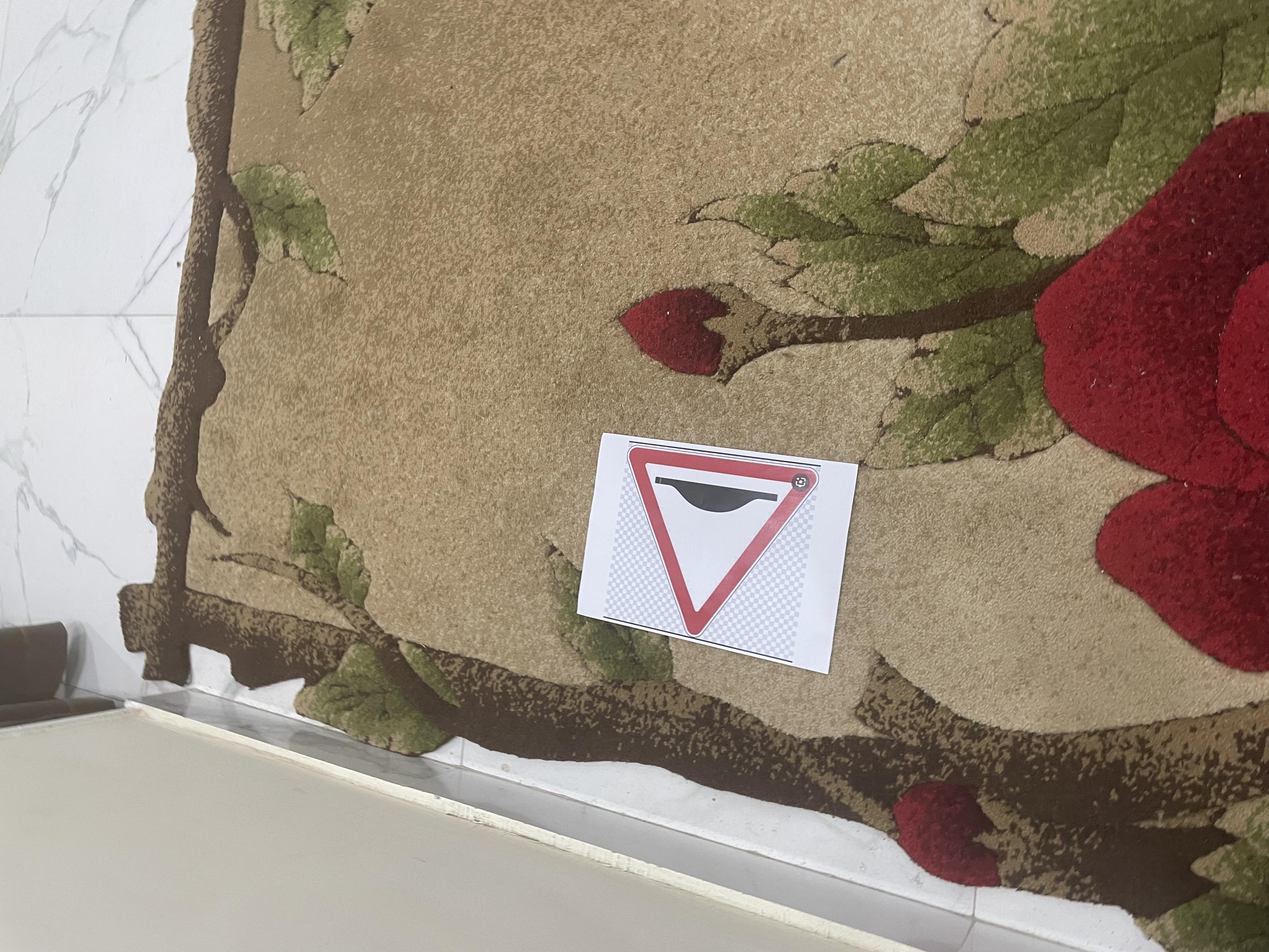Hump: (405, 468, 693, 623)
